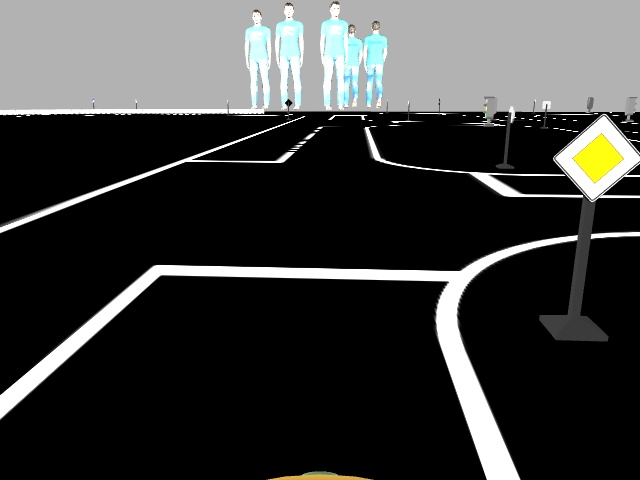Priority: (549, 112, 639, 203)
